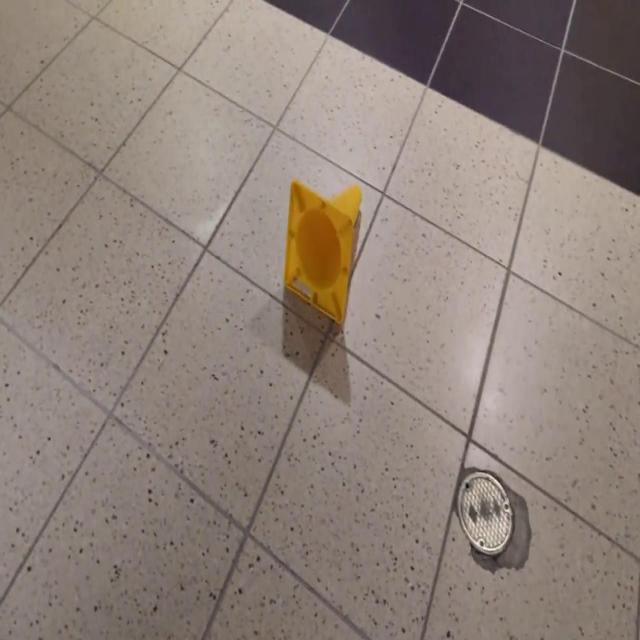frc_cone: (282, 180, 362, 326)
